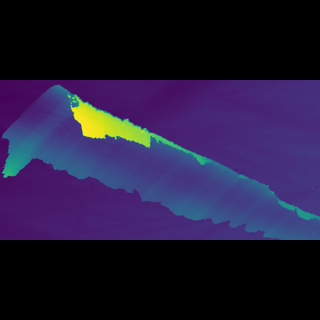Loch: (1, 121, 317, 201)
